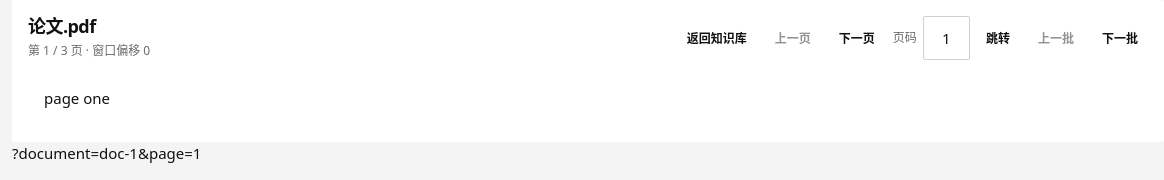
Scenario: DocumentReader › moves between pages and batches with an accurate next_offset
expect the text "page one" is shown: met, box [44,88,110,108]
What coordinates should you click on to do the following:
click the button "下一批"
I would click on:
 (1120, 38)
Its box is [1092,21,1148,55].
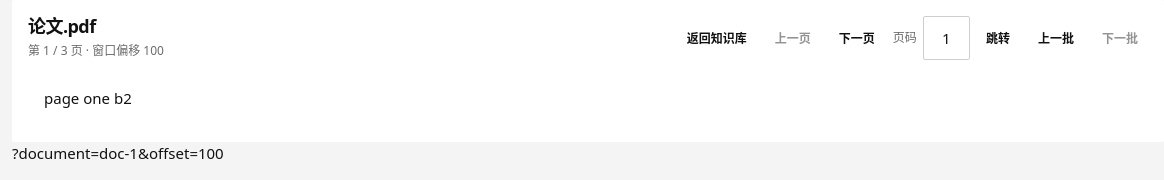
expect the text "page one b2" is shown: met, box [44,88,132,108]
expect the text with test id "location" shows "offset=100": met, box [12,142,224,162]
What coordinates should you click on to do the following:
click the button "上一批"
I would click on:
 (1056, 38)
Its box is [1028,21,1084,55].
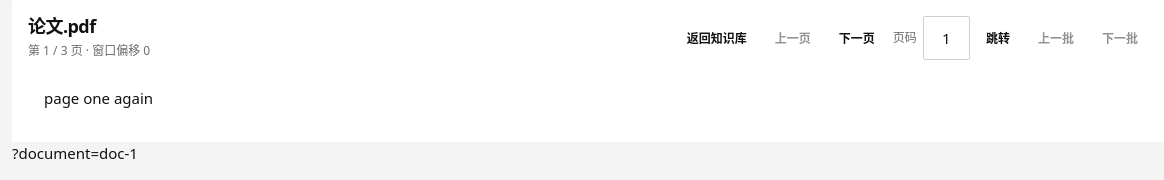
expect the text "page one again" is shown: met, box [44,88,153,108]
What coordinates should you click on to do the following:
click the button "下一页"
I would click on:
 (857, 38)
Its box is [829,21,885,55].
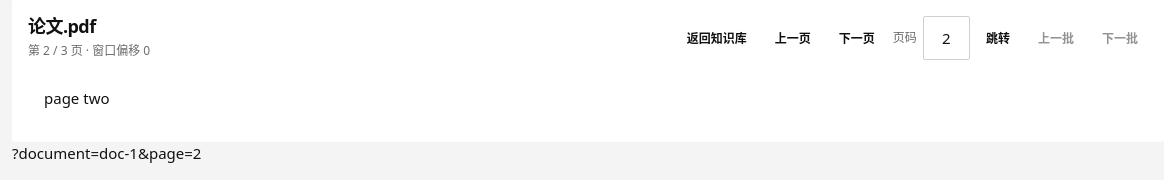
expect the text "page two" is shown: met, box [44,88,110,108]
expect the text with test id "location" shows "page=2": met, box [12,142,201,162]
What coordinates should you click on to do the following:
click the button "上一页"
I would click on:
 (793, 38)
Its box is [765,21,821,55].
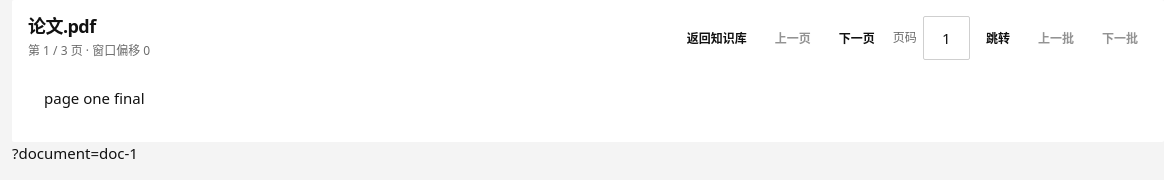
expect the text "page one final" is shown: met, box [44,88,144,108]
